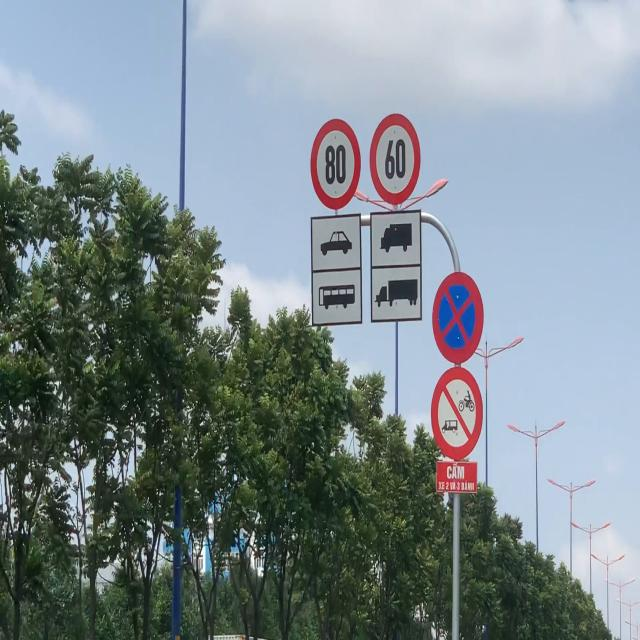Cam con lai: (430, 367, 482, 460)
Cam dung va do: (431, 270, 485, 366)
Toc do toi da: (307, 114, 363, 211), (372, 102, 421, 210)
